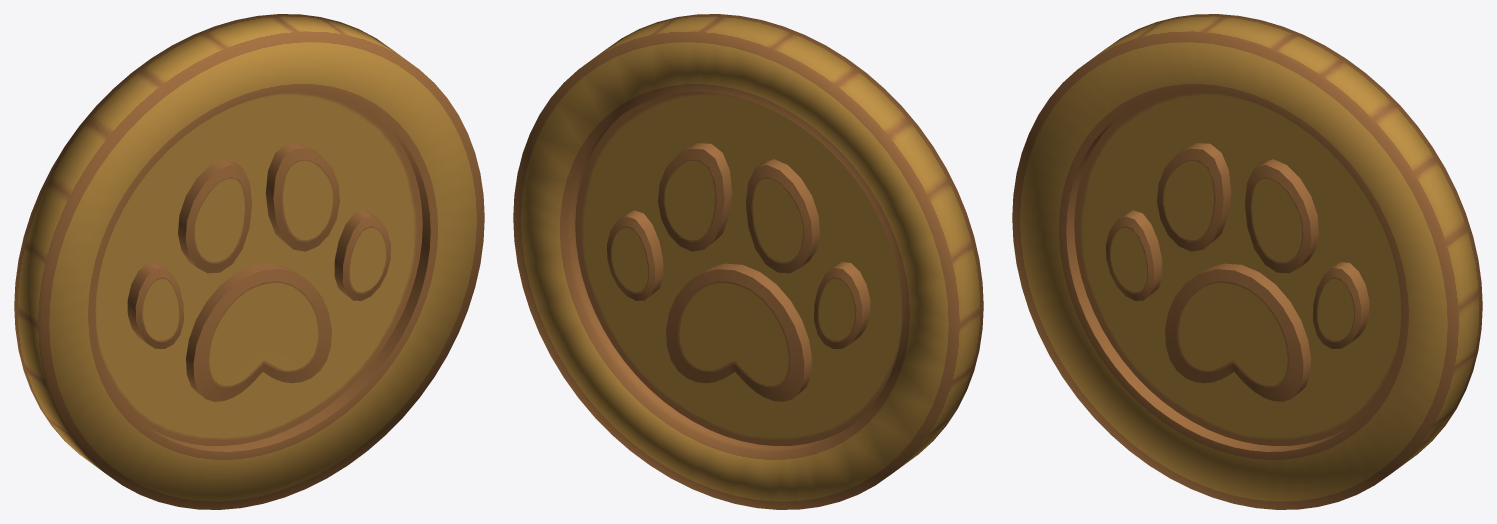
File: pawcoin.glb
3 renders of one model, left to right at view 1: azimuth 30°, elevation 25°; view 2: azimuth 150°, elevation 25°; view 3: azimuth 330°, elevation 25°, orthographic.
Visible parts, largest first — view 1: Coin; view 2: Coin; view 3: Coin.
Part boxes in pixels (x1=…): Coin: x1=14, y1=14, x2=484, y2=509; Coin: x1=513, y1=14, x2=983, y2=509; Coin: x1=1012, y1=14, x2=1482, y2=509.
Size of what is drawn, in the model's own units: 1.99 by 1.99 by 0.2338.
Materials: 1 (1 with a texture image).
